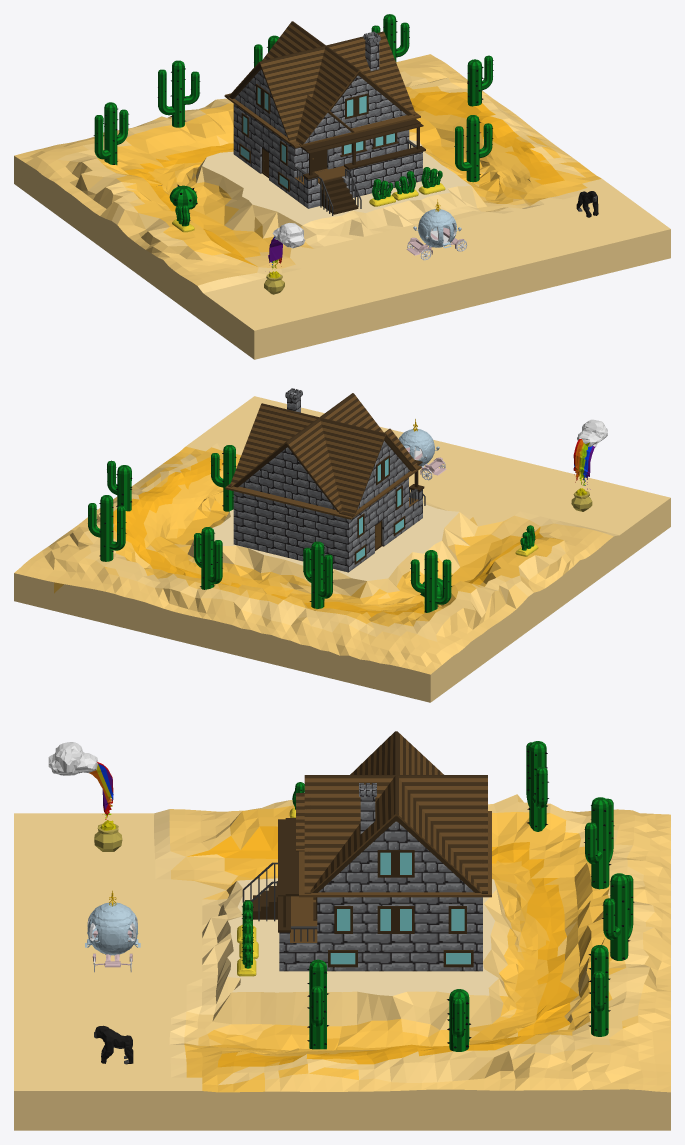
The picture shows the model from 3 angles, top to bottom: view 1: azimuth 30°, elevation 25°; view 2: azimuth 150°, elevation 25°; view 3: azimuth 270°, elevation 25°; orthographic projection. The views are drawn at different scales.
Parts seen in each view (by area): view 1: Cube.001, Cube.586, VEHICLES_FANTASY_CARRIAGE, Cylinder.037, Cylinder.044, Cylinder.045, OBJRANDOM_RAINBOW, Cylinder.038, Cylinder.042, Cylinder.039, Cylinder.041, Sphere.023 (+1 smaller); view 2: Cube.001, Cube.586, Cylinder.042, Cylinder.045, OBJRANDOM_RAINBOW, Cylinder.044, Cylinder.043, VEHICLES_FANTASY_CARRIAGE, Cylinder.037, Cylinder.038; view 3: Cube.001, Cube.586, VEHICLES_FANTASY_CARRIAGE, OBJRANDOM_RAINBOW, Cylinder.043, Cylinder.044, Cylinder.045, Cylinder.042, Cylinder.037, Cylinder.038, ANIMAL_GORILA, Cylinder.041.
Part boxes in pixels (box(x1,y1,x2,y2)): Cube.001: box(14, 54, 670, 359); Cube.586: box(224, 21, 425, 215); VEHICLES_FANTASY_CARRIAGE: box(406, 199, 467, 260); Cylinder.037: box(454, 115, 493, 182); Cylinder.044: box(157, 60, 200, 127); Cylinder.045: box(93, 102, 129, 164); OBJRANDOM_RAINBOW: box(264, 223, 305, 294); Cylinder.038: box(467, 55, 493, 106); Cylinder.042: box(371, 14, 409, 62); Cylinder.039: box(369, 179, 395, 206); Cylinder.041: box(418, 167, 445, 194); Sphere.023: box(169, 184, 197, 209); Cube.001: box(14, 396, 670, 702); Cube.586: box(225, 388, 425, 572); Cylinder.042: box(88, 495, 126, 561); Cylinder.045: box(410, 550, 452, 612); OBJRANDOM_RAINBOW: box(571, 419, 607, 511); Cylinder.044: box(303, 541, 333, 608); Cylinder.043: box(193, 527, 222, 589); VEHICLES_FANTASY_CARRIAGE: box(398, 419, 446, 480); Cylinder.037: box(211, 445, 240, 511); Cylinder.038: box(107, 460, 132, 511); Cube.001: box(14, 794, 670, 1130); Cube.586: box(242, 731, 491, 971); VEHICLES_FANTASY_CARRIAGE: box(85, 890, 140, 972); OBJRANDOM_RAINBOW: box(48, 742, 122, 851); Cylinder.043: box(602, 873, 634, 960); Cylinder.044: box(584, 797, 614, 889); Cylinder.045: box(526, 741, 548, 831); Cylinder.042: box(588, 945, 610, 1036); Cylinder.037: box(307, 959, 328, 1049); Cylinder.038: box(447, 989, 471, 1051); ANIMAL_GORILA: box(94, 1025, 133, 1064); Cylinder.041: box(237, 933, 256, 976).
Size of the model in its own units: 4002 by 1644 by 4001.
28 materials, 3 textured.
